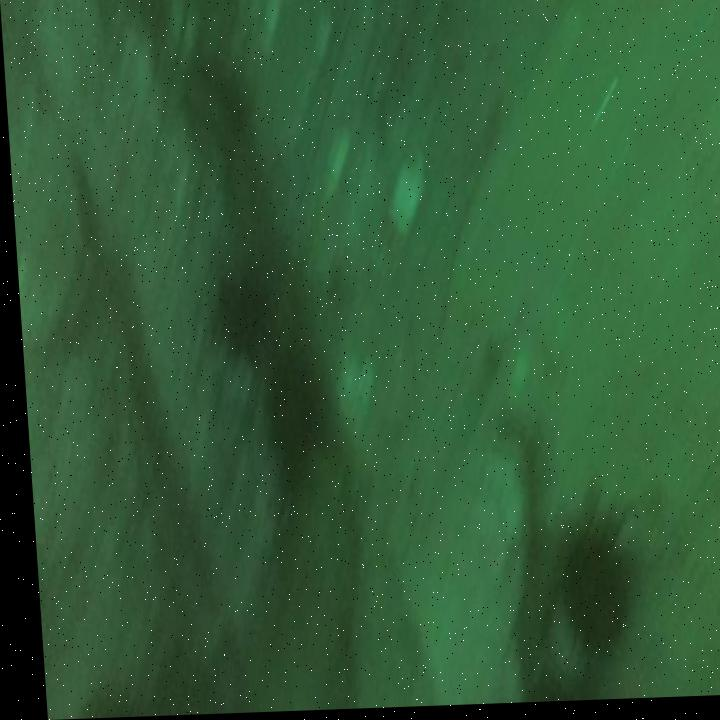echinus: (540, 511, 627, 677), (257, 365, 323, 488), (210, 261, 265, 361)
